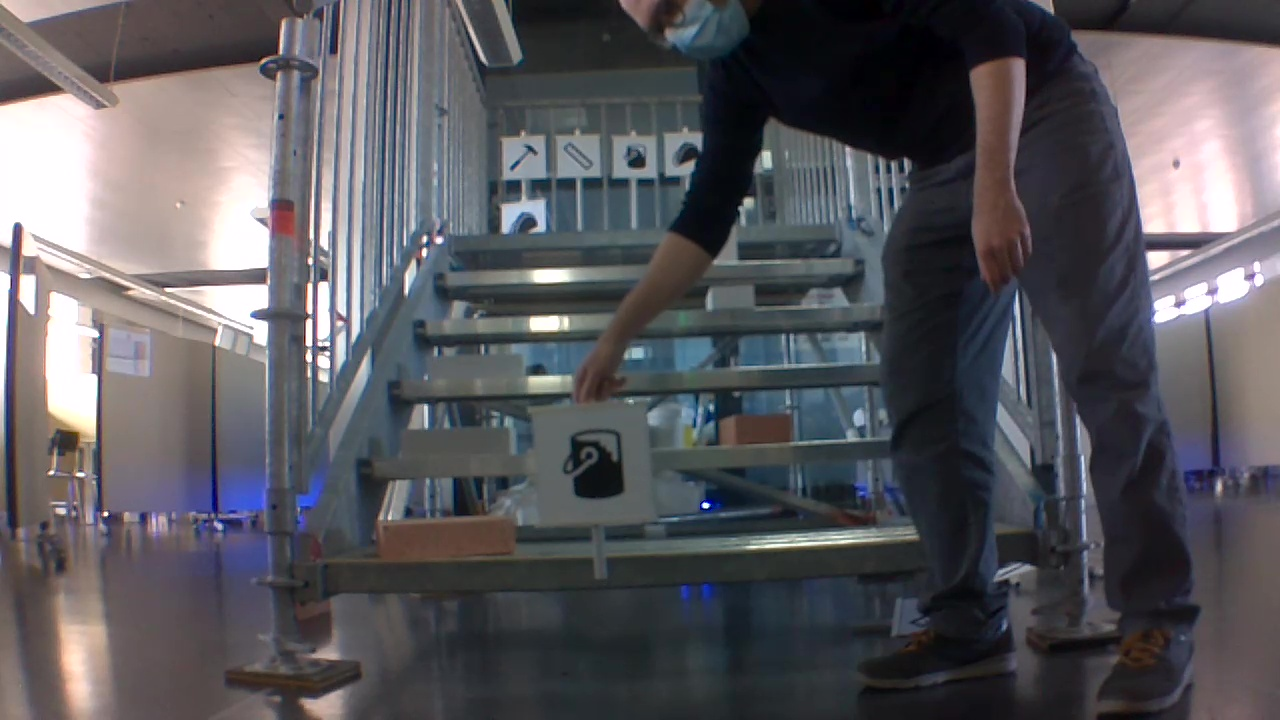brick: (379, 514, 513, 563), (403, 426, 514, 455), (427, 356, 525, 381), (721, 414, 791, 443), (708, 284, 753, 310)
bucket: (551, 425, 631, 508), (616, 140, 648, 171)
edge: (327, 530, 1040, 594)
hammer: (503, 139, 541, 174)
ruler: (560, 137, 595, 174)
taco: (506, 208, 539, 235), (668, 141, 697, 170)
